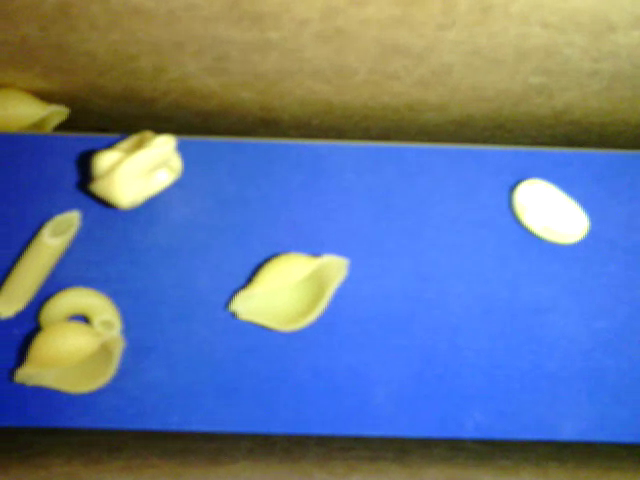elbow: (40, 285, 124, 335)
penne: (2, 202, 86, 322)
shell: (222, 250, 356, 333), (15, 324, 136, 396), (3, 90, 77, 133)
tortellini: (85, 129, 186, 213)
